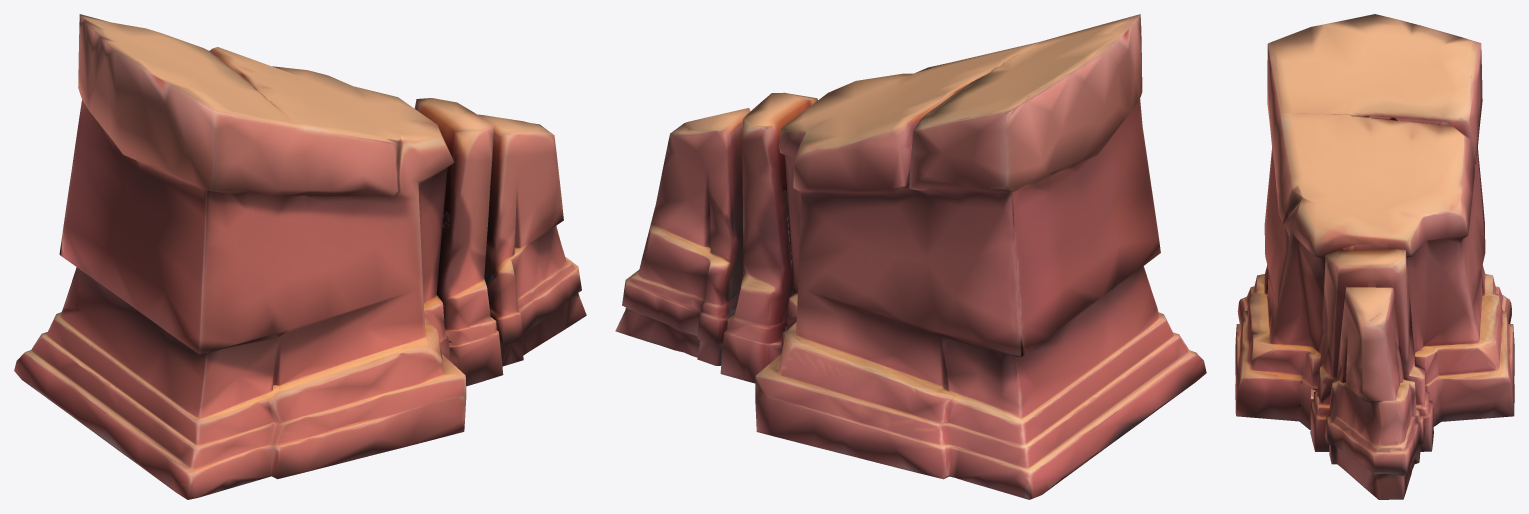
The model's file is Meshy_AI_Desert_Rock_1_0129191547_texture.fbx.
3 renders of one model, left to right at view 1: azimuth 30°, elevation 25°; view 2: azimuth 150°, elevation 25°; view 3: azimuth 270°, elevation 25°, orthographic. The views are drawn at different scales.
Visible parts, largest first — view 1: Mesh_0; view 2: Mesh_0; view 3: Mesh_0.
Part boxes in pixels (x1,y1,x2,y2): Mesh_0: (14, 14, 586, 499); Mesh_0: (615, 14, 1206, 499); Mesh_0: (1235, 14, 1514, 499).
Size of the model in its own units: 191 by 143 by 120.
Materials: 1 (1 with a texture image).
